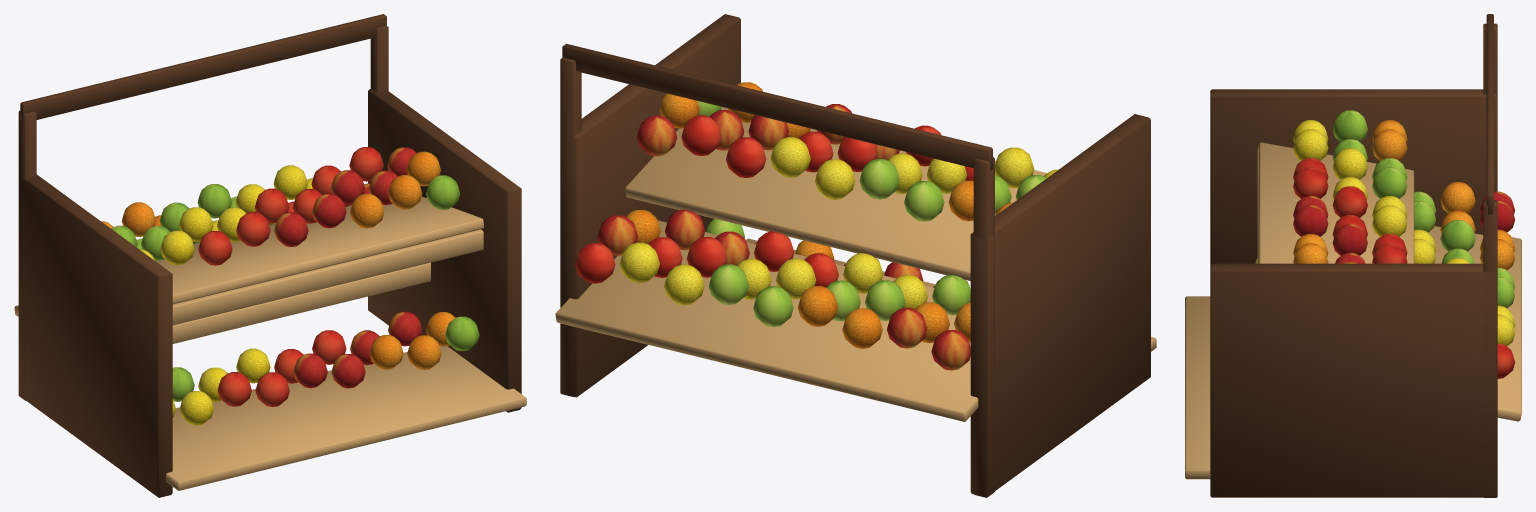
The model's file is buffet_fruit_market_stand.glb.
3 views of the same model, side by side, from view 1: azimuth 30°, elevation 25°; view 2: azimuth 150°, elevation 25°; view 3: azimuth 270°, elevation 25° (orthographic). The views are drawn at different scales.
Visible parts, largest first — view 1: buffet_fruit_market_stand; view 2: buffet_fruit_market_stand; view 3: buffet_fruit_market_stand.
Part boxes in pixels (x1,y1,x2,y2): buffet_fruit_market_stand: (14, 14, 526, 497); buffet_fruit_market_stand: (555, 14, 1156, 497); buffet_fruit_market_stand: (1185, 14, 1521, 497).
Bounding box in the file's own units: 1.2 × 0.93 × 0.9378.
7 materials, 5 textured.
